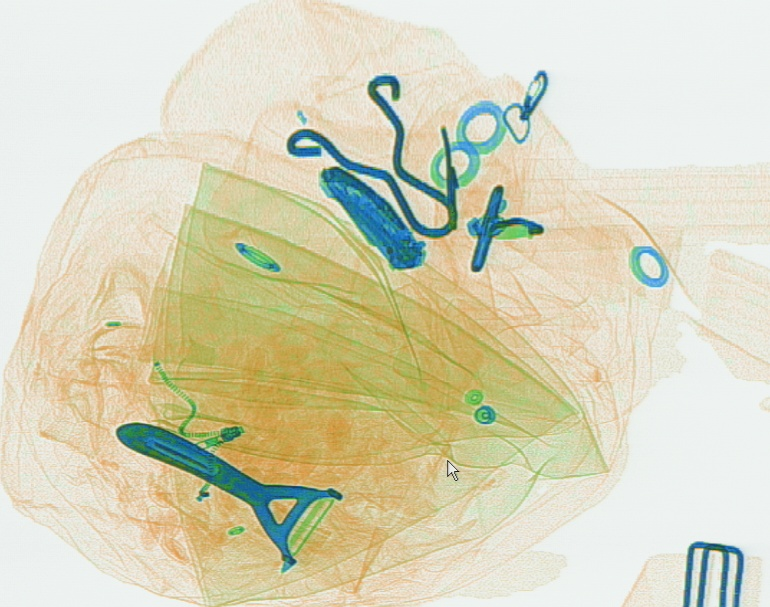knife: (317, 160, 426, 269)
slingshot: (283, 73, 458, 238)
